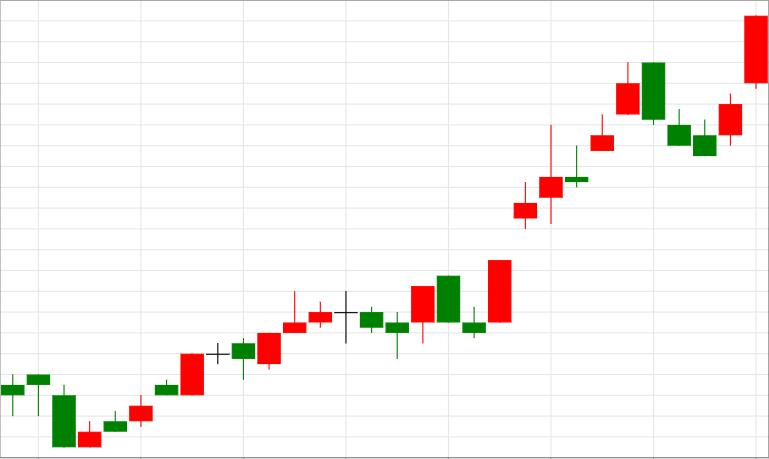bearish_engulfing_fall: (489, 62, 664, 323)
